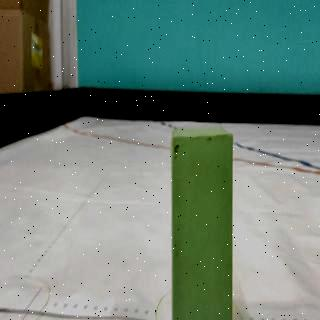greenbox: (172, 127, 234, 320)
